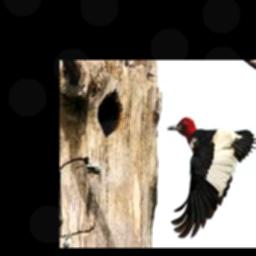Woodpecker: (168, 117, 256, 238)
